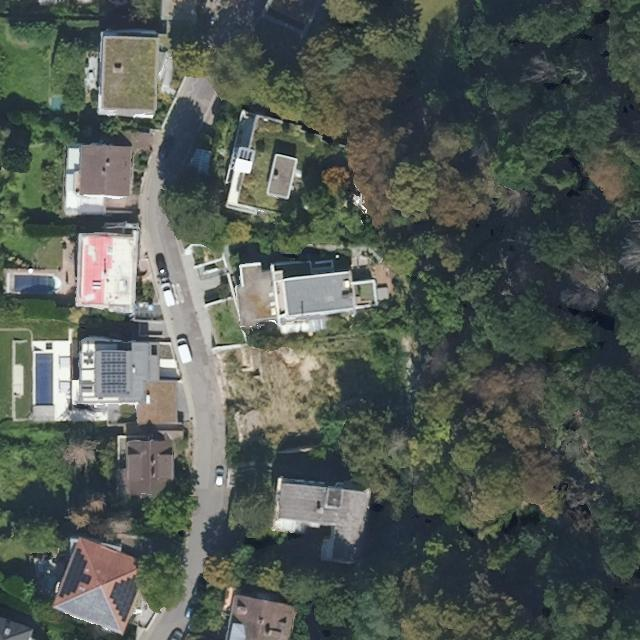PV: (56, 546, 94, 599), (107, 573, 139, 627), (99, 353, 127, 395)
